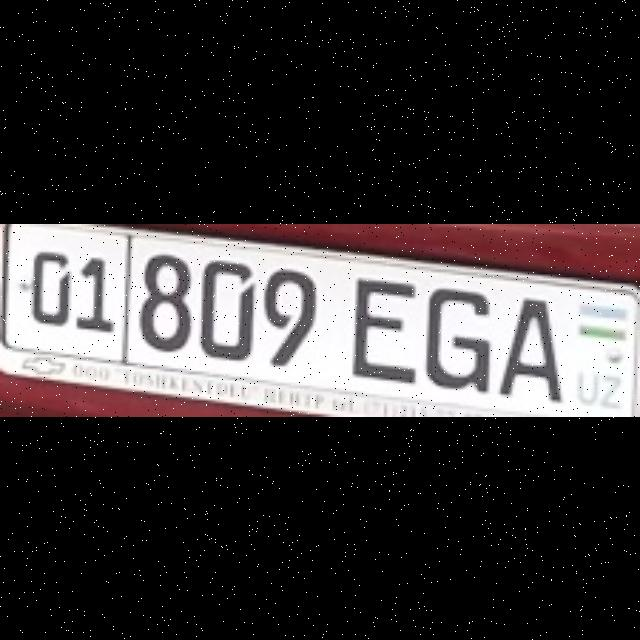0: (196, 257, 250, 357), (28, 248, 66, 320)
1: (71, 254, 111, 328)
8: (136, 252, 188, 348)
9: (262, 266, 312, 362)
A: (494, 294, 558, 400)
E: (346, 274, 409, 380)
G: (424, 286, 486, 388)
